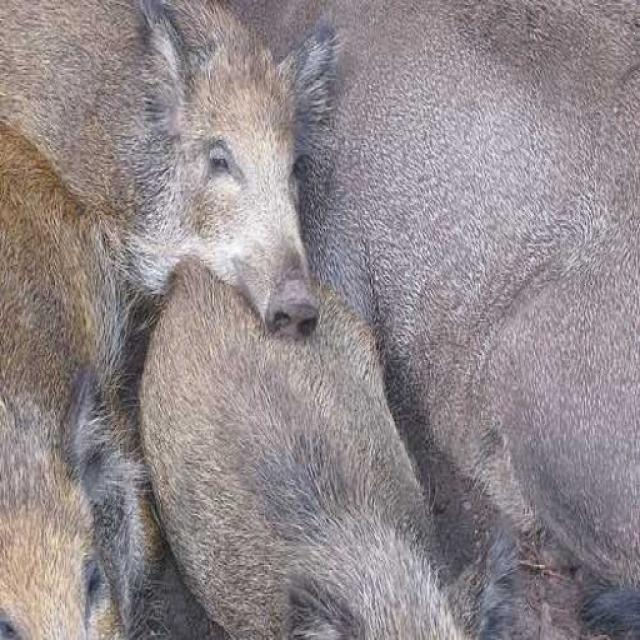pig: (3, 0, 322, 624)
